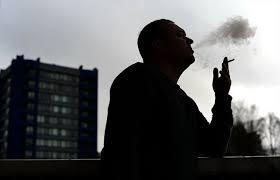smoke: (194, 16, 256, 52)
